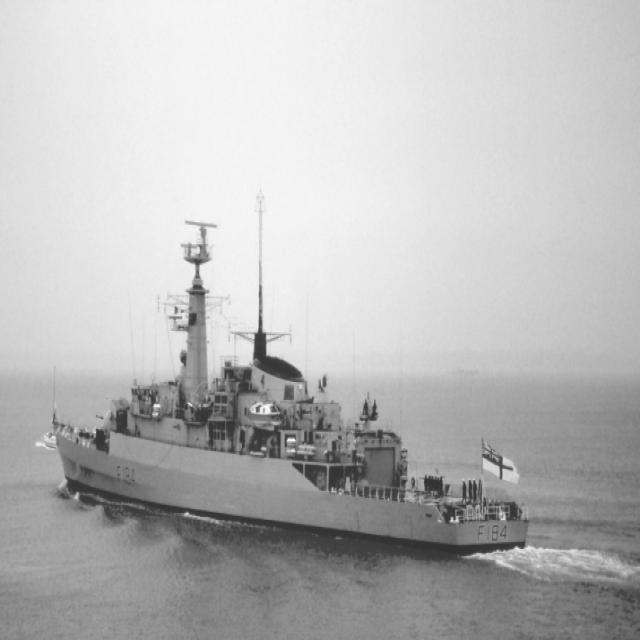Fragata: (53, 211, 526, 562)
